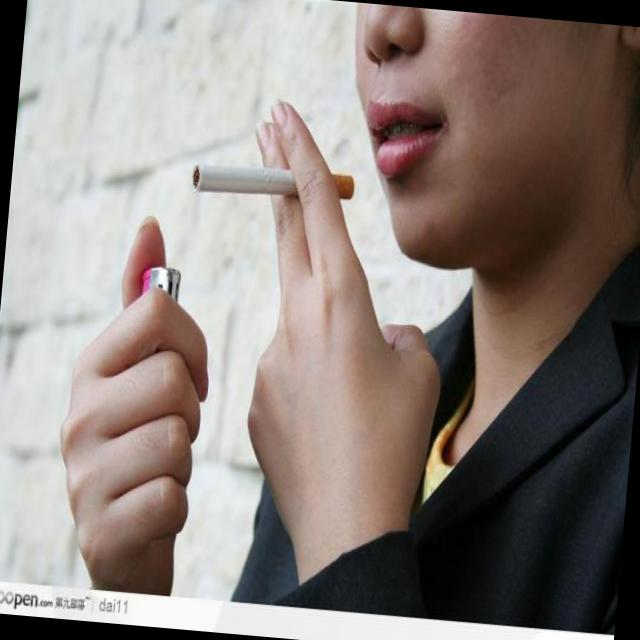smoke: (182, 158, 356, 207)
